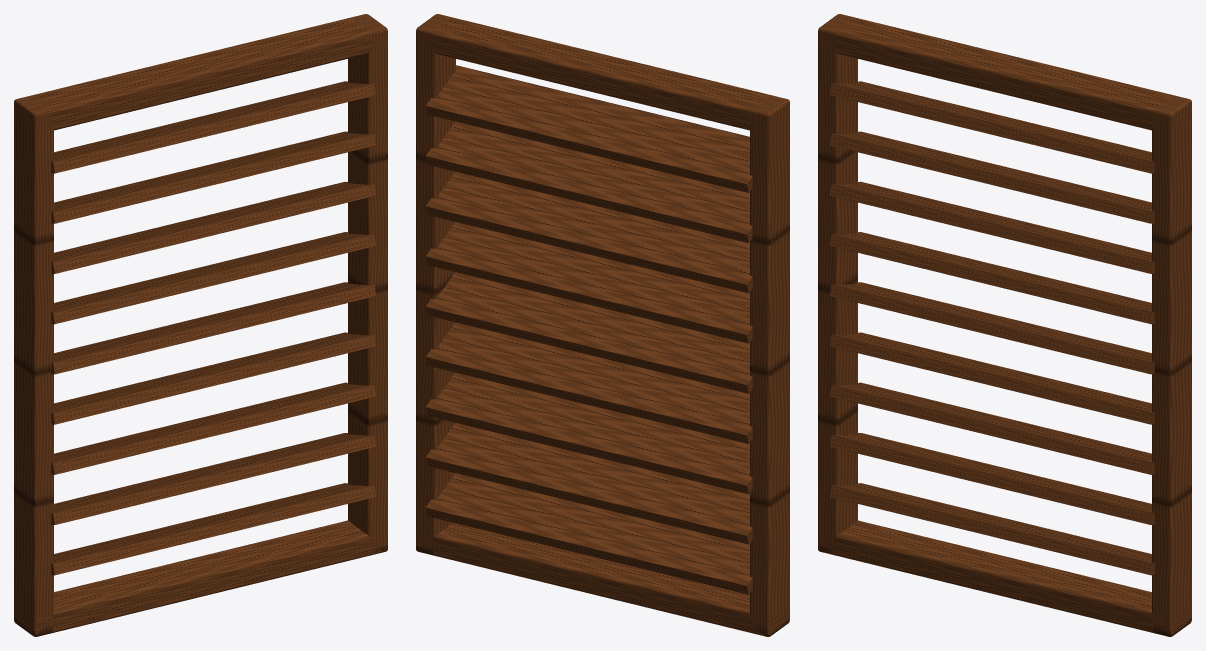
Rendered from flooded-and-coastal-survival-storm-louvre-shutter-c547e04e__20090.glb.
3 views of the same model, side by side, from view 1: azimuth 30°, elevation 25°; view 2: azimuth 150°, elevation 25°; view 3: azimuth 330°, elevation 25° (orthographic).
Parts seen in each view (by area): view 1: storm-louvre-shutter; view 2: storm-louvre-shutter; view 3: storm-louvre-shutter.
Boxes of the visible parts, box(x1,y1,x2,y2) form: storm-louvre-shutter: box(14, 14, 387, 636); storm-louvre-shutter: box(416, 14, 789, 636); storm-louvre-shutter: box(818, 14, 1191, 636).
Bounding box in the file's own units: 0.85 × 1.2 × 0.1307.
Materials: 1 (1 with a texture image).
